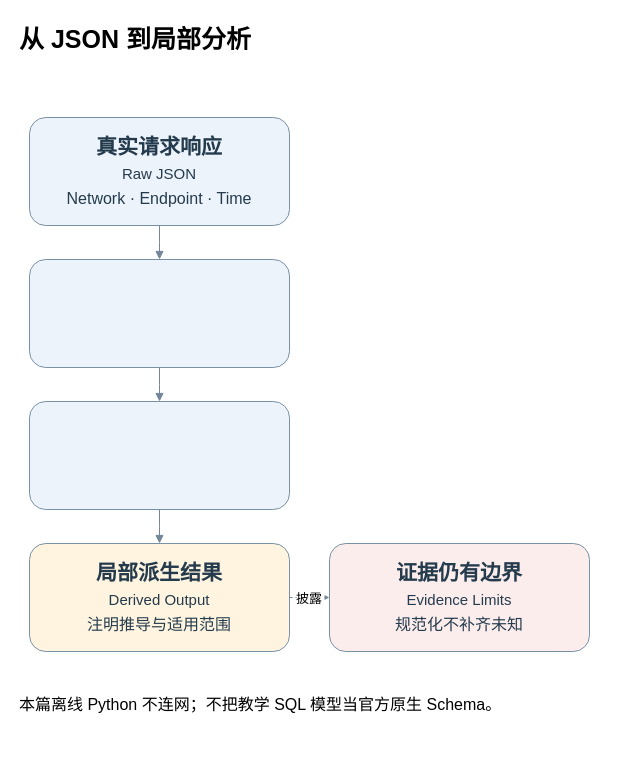
Some shapes in this 618 by 775 pixel diagram are drawn without their labels. Each missing label, with the centre of its shape:
按类型提取 Type-specific Extraction 交易与子表分开: the point at 159,313
身份和单位校验 Identity / Units 精确整数与可空字段: the point at 159,455
